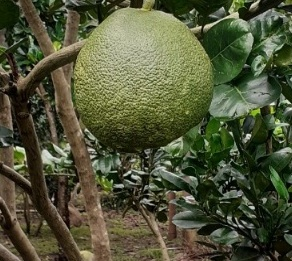Buoi: (55, 6, 216, 159)
